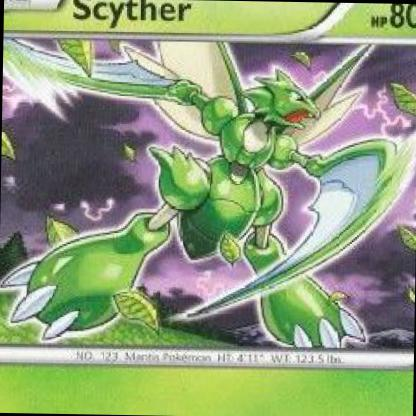Scyther: (1, 1, 416, 416), (1, 1, 416, 413)
